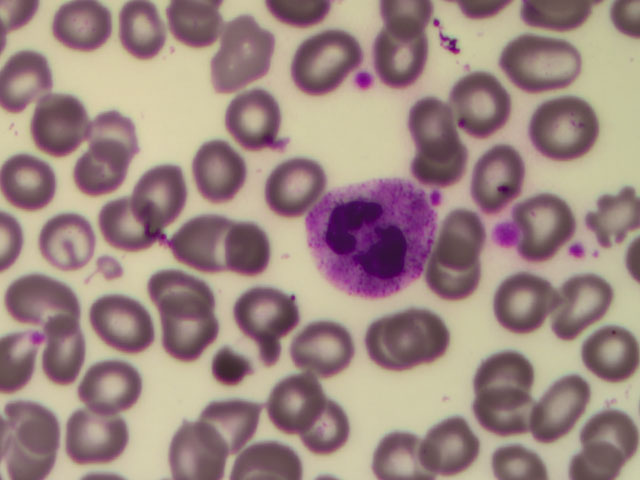Platelets: (493, 223, 527, 248), (352, 67, 377, 92), (566, 241, 589, 264), (27, 331, 42, 344)
RBC: (2, 48, 64, 103), (34, 92, 96, 147), (60, 147, 122, 202), (88, 103, 150, 158), (33, 213, 95, 268), (6, 267, 68, 322), (45, 323, 107, 378), (86, 351, 148, 406), (70, 408, 132, 463), (8, 401, 70, 456), (94, 294, 156, 349), (148, 260, 210, 315), (156, 313, 218, 368), (179, 210, 241, 265), (225, 221, 287, 276), (133, 169, 195, 224), (94, 202, 156, 257), (187, 141, 249, 196), (235, 86, 297, 141), (263, 152, 325, 207), (208, 27, 270, 82), (168, 2, 230, 57), (106, 1, 168, 56), (290, 31, 352, 86), (365, 32, 427, 87), (454, 70, 516, 125), (409, 98, 471, 153), (410, 135, 472, 190), (463, 144, 525, 199), (441, 201, 503, 256), (423, 265, 485, 320), (534, 100, 596, 155), (514, 24, 576, 79), (552, 274, 614, 329), (499, 274, 561, 329), (576, 322, 638, 377), (543, 375, 605, 430), (578, 408, 640, 463), (473, 385, 535, 440), (465, 345, 527, 400), (402, 301, 464, 356), (364, 314, 426, 369), (293, 321, 355, 376), (233, 286, 295, 341), (268, 374, 330, 429), (291, 401, 353, 456), (374, 425, 436, 480), (420, 425, 482, 480), (237, 425, 299, 480), (208, 395, 270, 450), (165, 422, 227, 477), (51, 1, 111, 57), (1, 150, 62, 205)
WBC: (304, 175, 438, 301)
